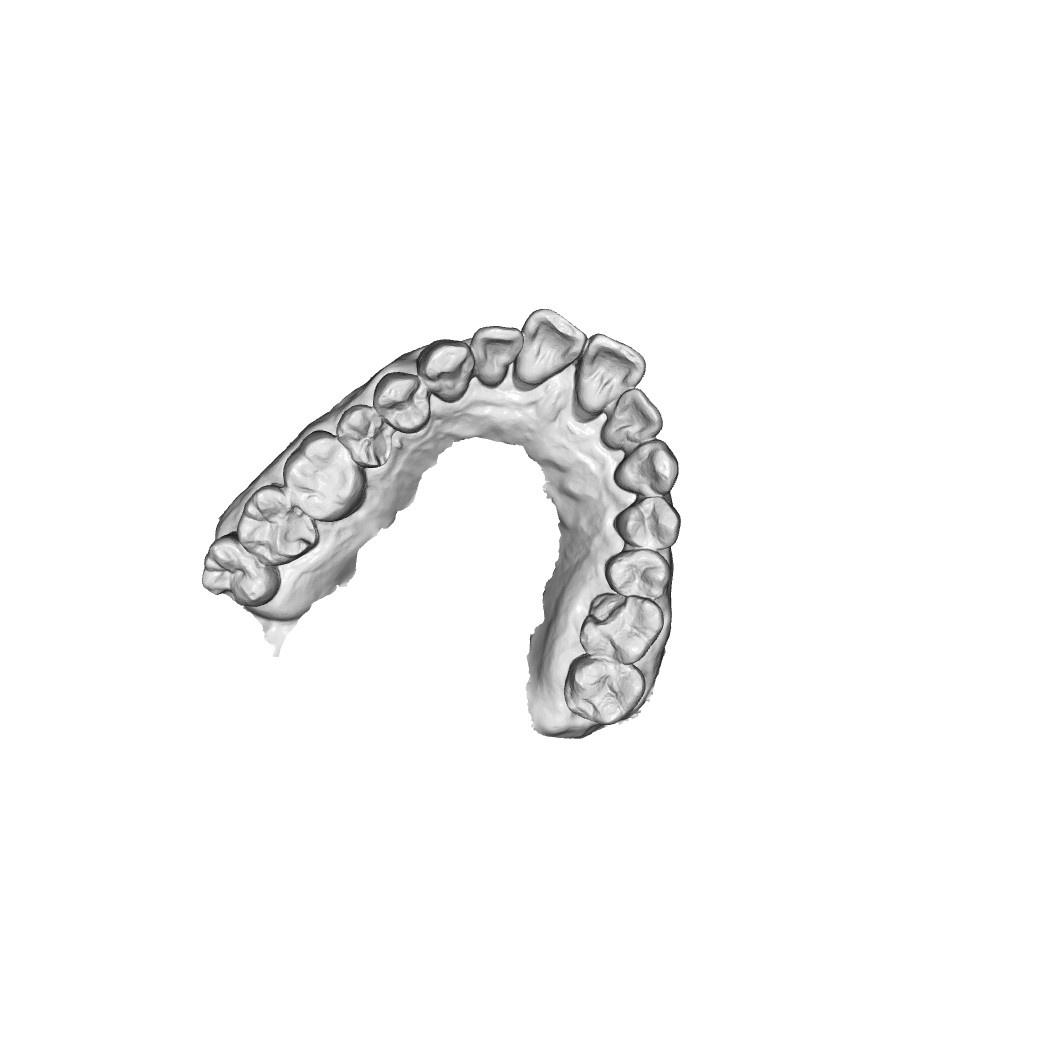canine: (616, 438, 681, 501), (418, 338, 474, 404)
incisor: (578, 333, 645, 412), (514, 307, 583, 379), (472, 319, 525, 392), (603, 390, 666, 447)
molar: (285, 428, 365, 524), (233, 482, 316, 567), (200, 534, 278, 607), (559, 657, 647, 721), (576, 592, 660, 658)
premolar: (337, 403, 395, 463), (620, 498, 679, 551), (611, 546, 667, 597), (379, 374, 429, 428)
